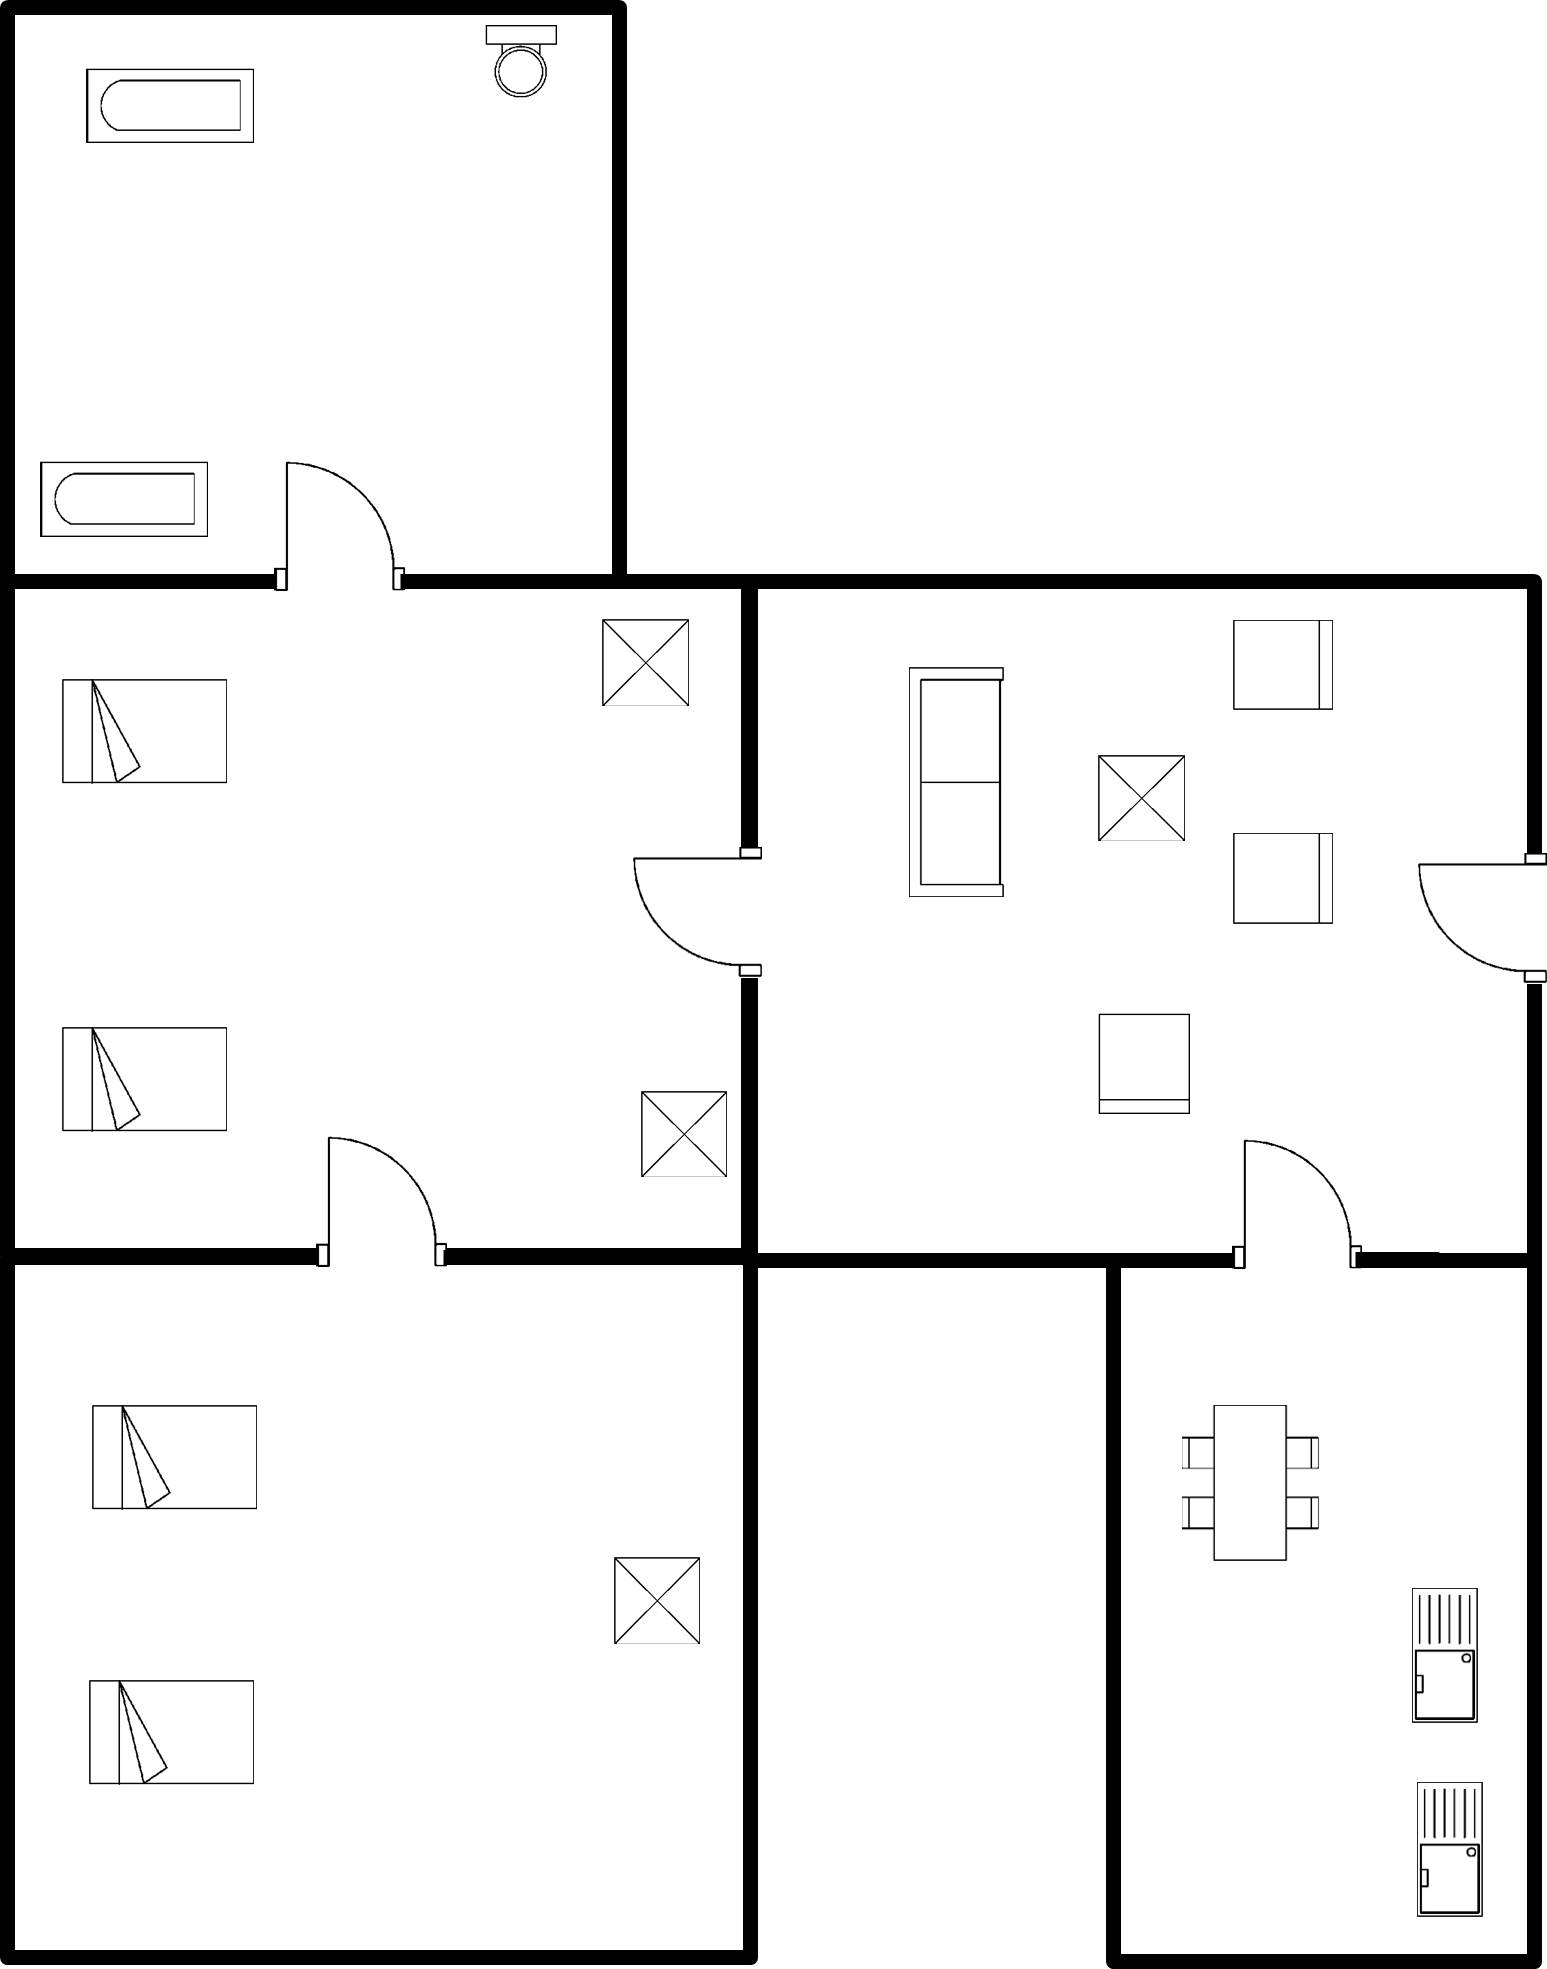bed: (70, 1388, 276, 1530), (51, 663, 243, 802), (77, 1671, 270, 1804), (43, 1017, 241, 1144)
coffee_table: (1077, 740, 1197, 857), (601, 1538, 708, 1655), (591, 605, 704, 715), (624, 1077, 737, 1184)
dining_table: (1166, 1396, 1327, 1582)
large_sink: (468, 13, 568, 109)
large_sofa: (893, 650, 1018, 911)
sink: (1391, 1577, 1495, 1732), (1401, 1763, 1499, 1927)
small_sofa: (1081, 1004, 1206, 1127), (1220, 825, 1343, 934), (1220, 613, 1341, 721)
tub: (68, 54, 272, 154), (31, 450, 222, 552)
